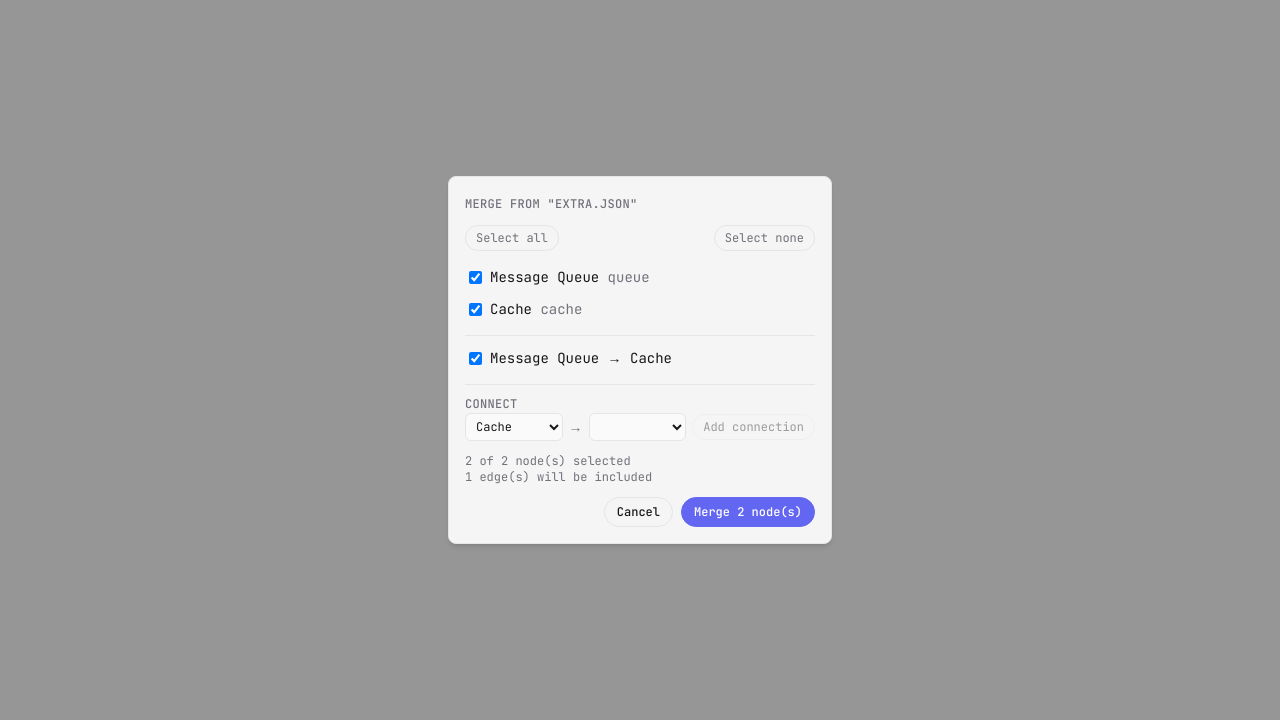
MergePickerDialog › unchecking an edge drops it from the included count but keeps both nodes selected
The width and height of the screenshot is (1280, 720).
Click the checkbox labelled "Message Queue → Cache": {"x": 476, "y": 358} [469,352,482,365]
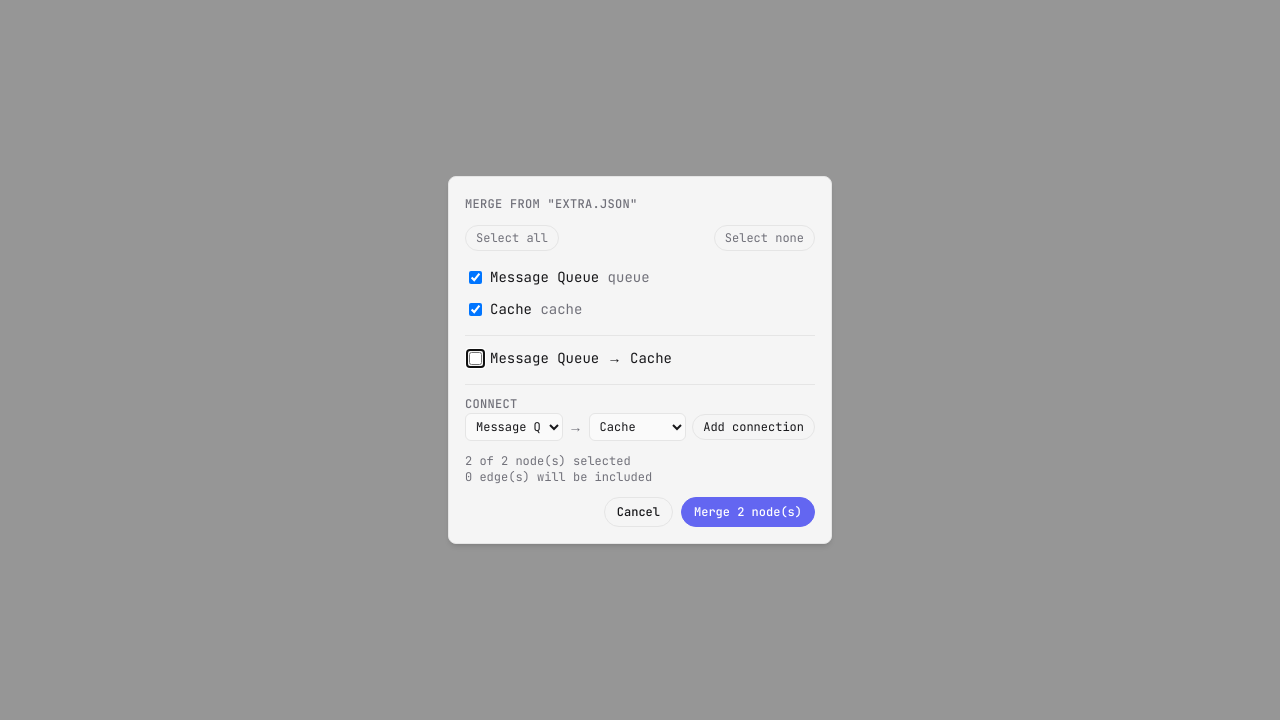
Expected: the text "2 of 2 node(s) selected" is shown, [465,453,631,469]
Expected: the text "0 edge(s) will be included" is shown, [465,469,652,485]
